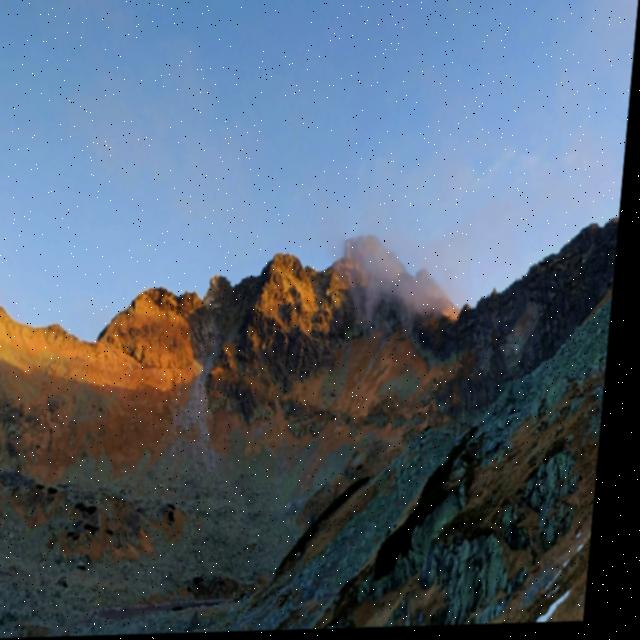Swinica: (208, 107, 514, 371)
